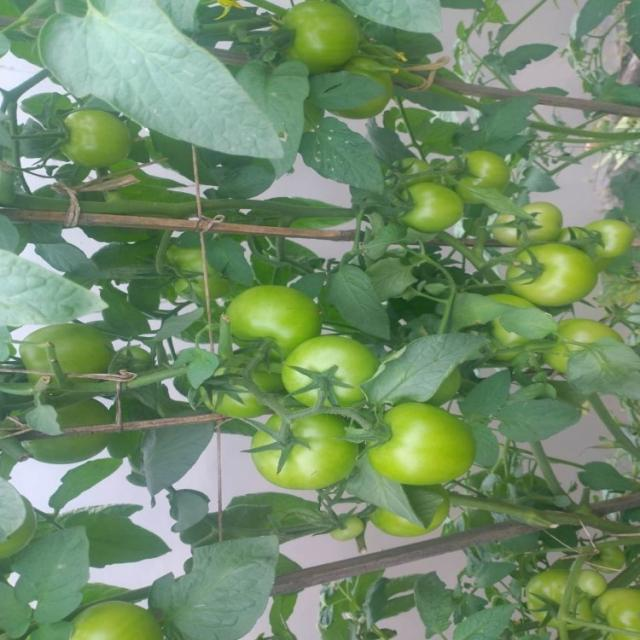tomato: (372, 394, 475, 471), (264, 417, 358, 486), (18, 324, 116, 388), (271, 1, 363, 69), (223, 287, 324, 348), (286, 331, 366, 408), (22, 399, 115, 458), (508, 242, 595, 303), (59, 108, 139, 170), (199, 358, 272, 419), (443, 148, 512, 208), (76, 595, 166, 640), (170, 244, 225, 311), (528, 570, 583, 633), (392, 184, 467, 230), (482, 200, 562, 242), (590, 572, 640, 637), (368, 495, 444, 533), (556, 323, 619, 367), (586, 219, 640, 260), (559, 558, 614, 596), (382, 147, 426, 183), (124, 340, 151, 368)
